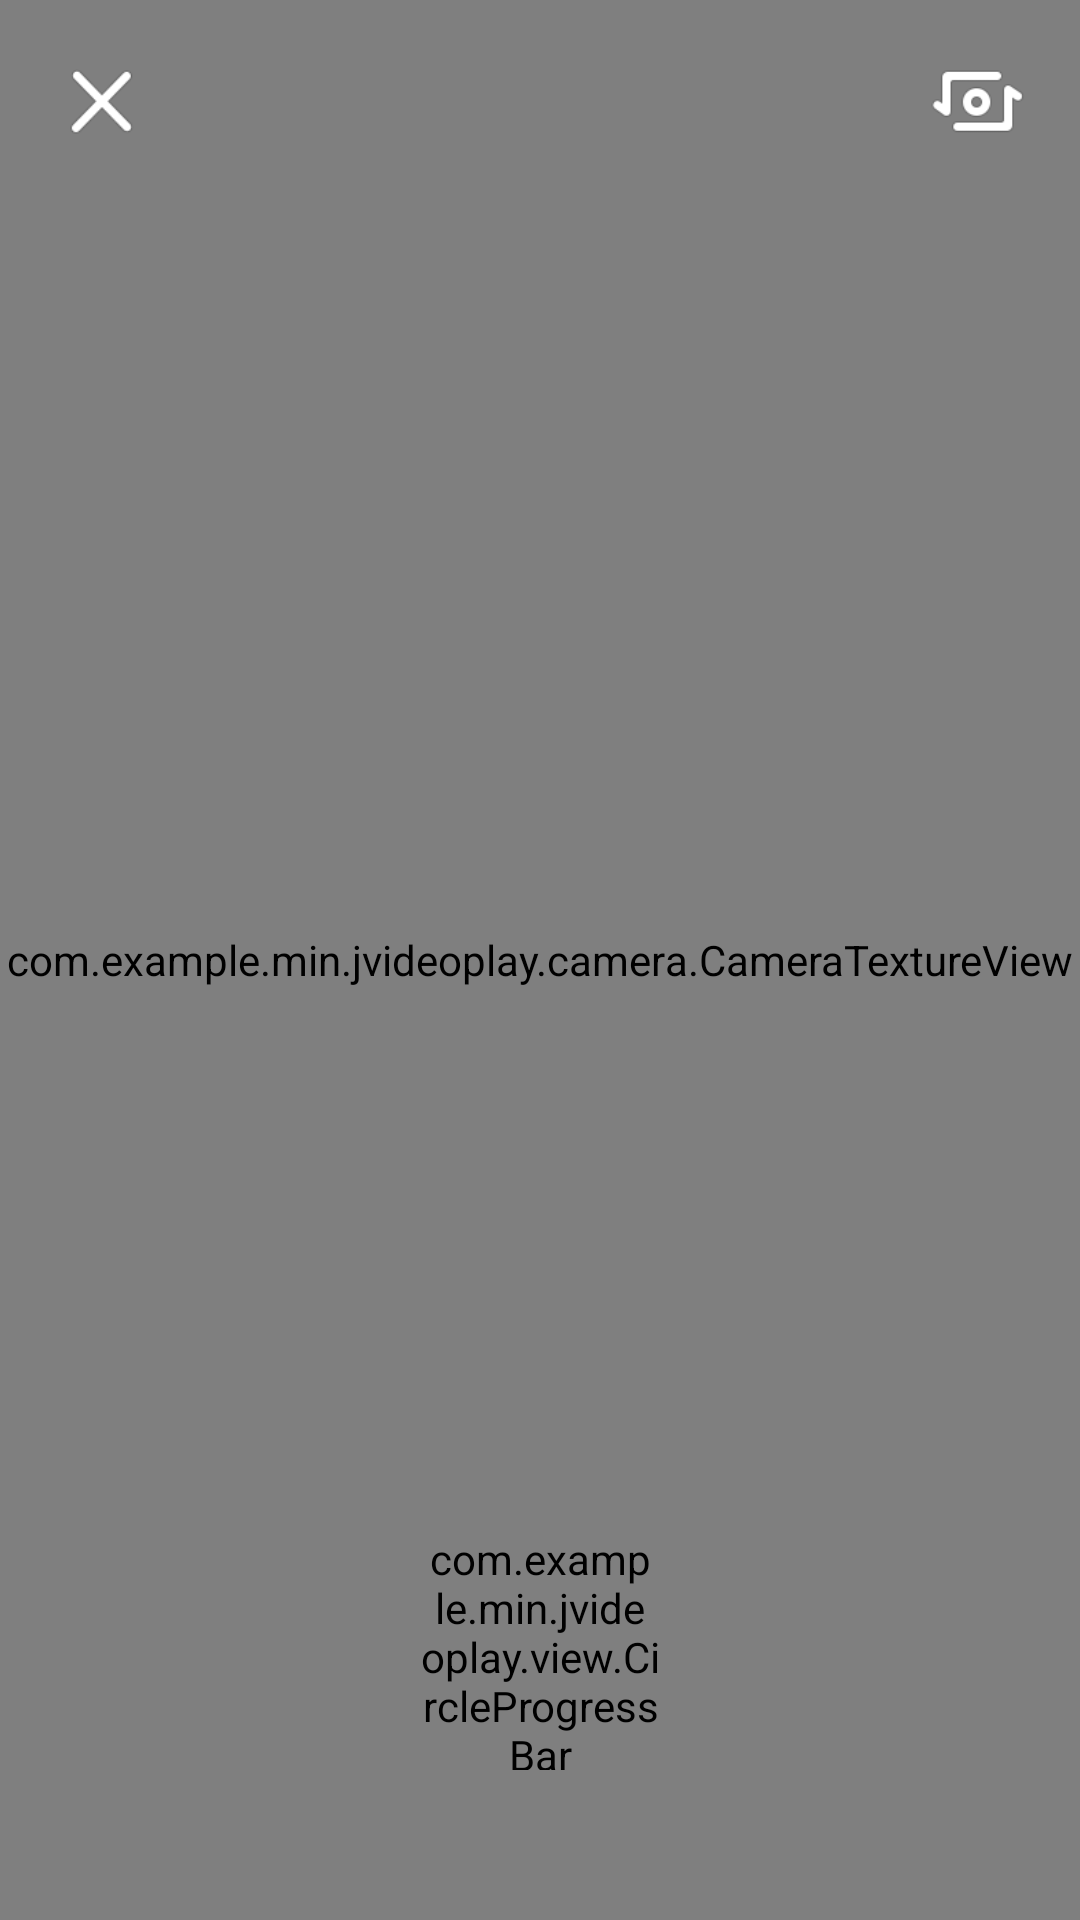

Named icons in this screenshot (1080px×1920px) and their bounding boxes, (x1, y1, x2, y2):
recoding closed: (72, 71, 131, 132)
recoding switch: (933, 72, 1022, 132)
